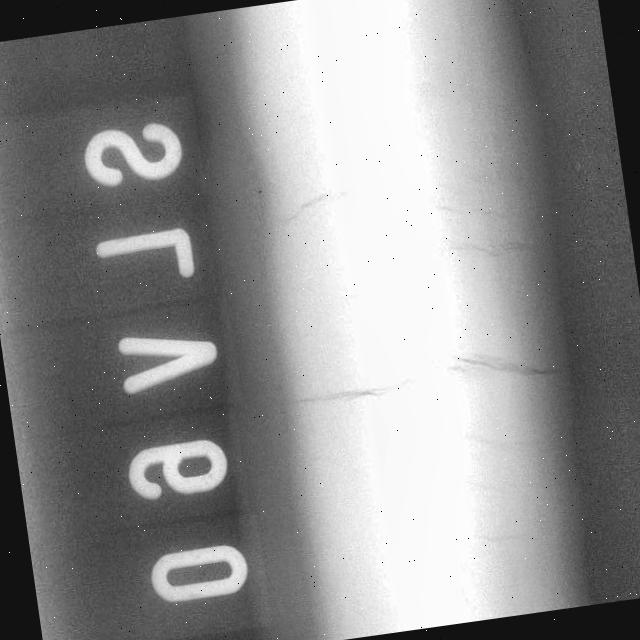Crack: (453, 419, 538, 580), (446, 320, 574, 410), (280, 362, 412, 428), (436, 218, 542, 280), (419, 184, 524, 243), (258, 183, 345, 240)
